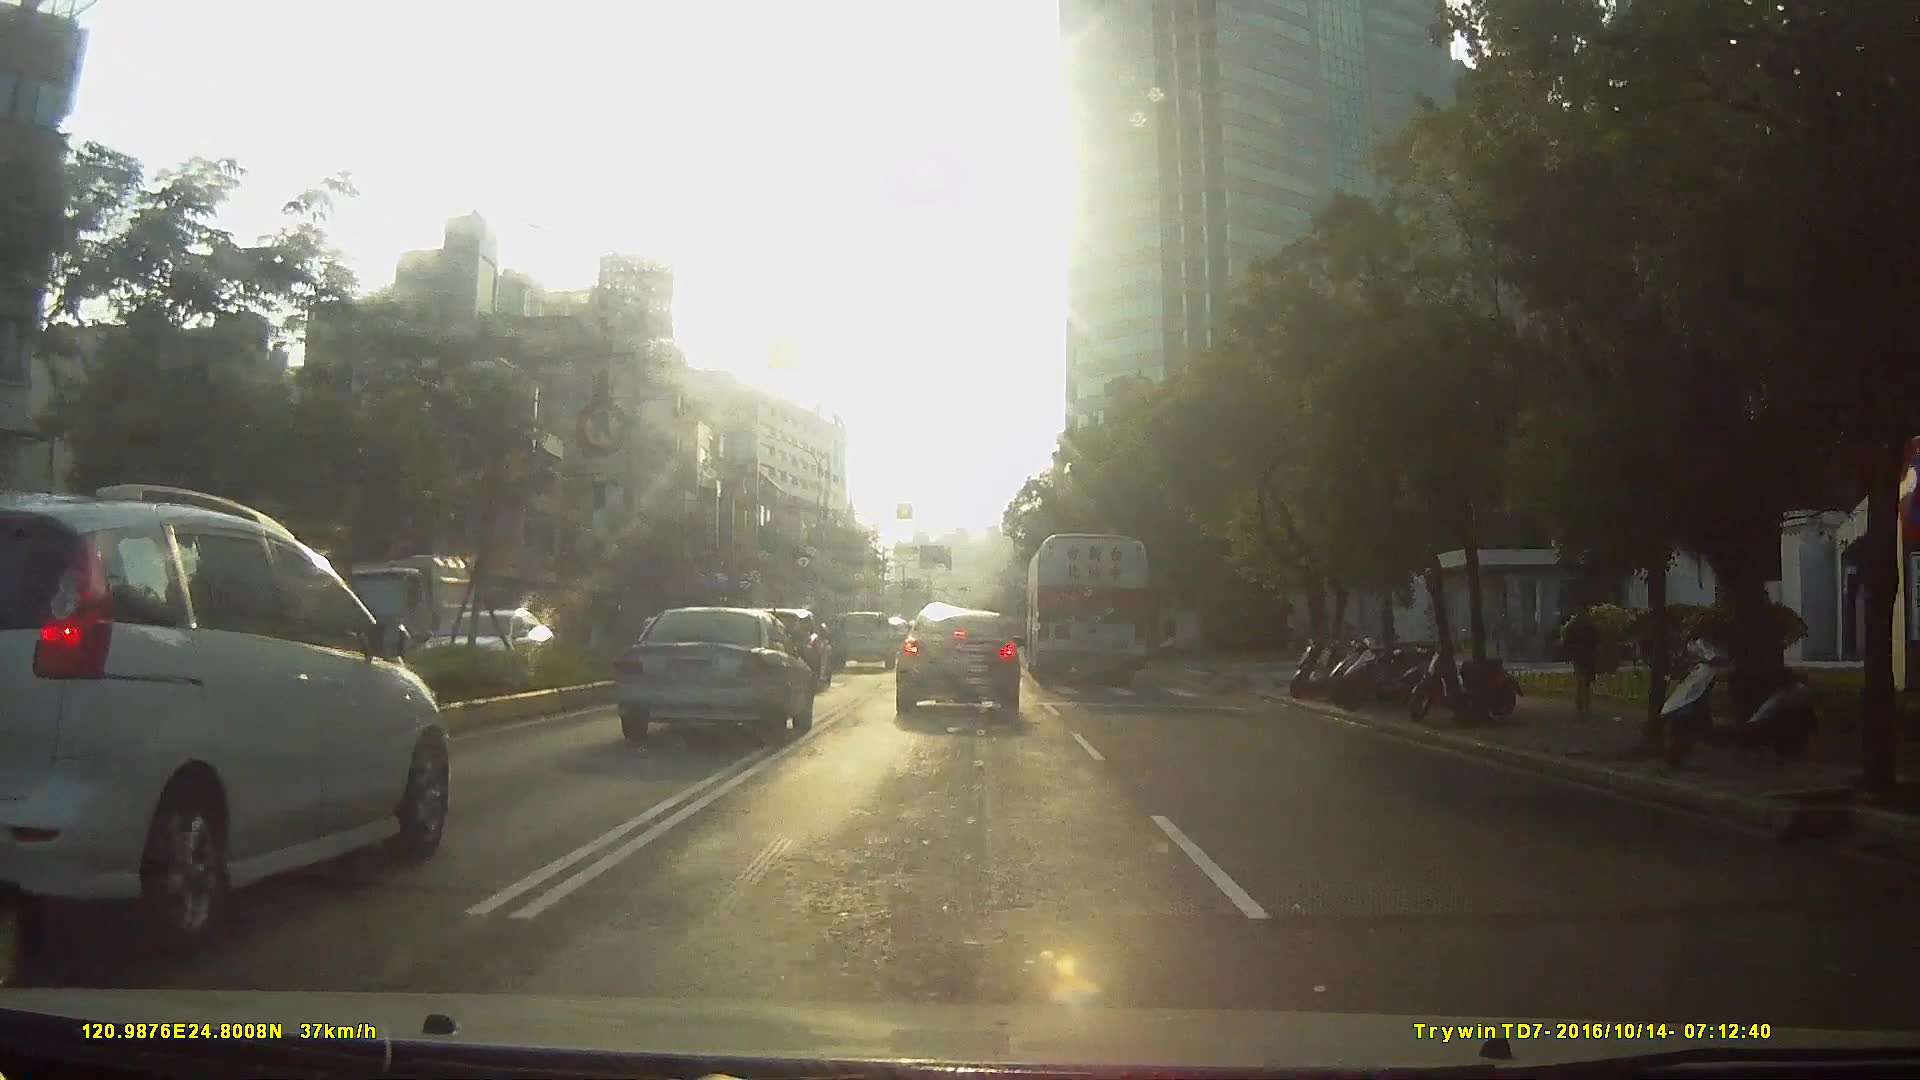pedestrian: (1562, 605, 1611, 716)
vehicle: (1, 472, 457, 965), (250, 556, 684, 868), (604, 603, 809, 746), (1022, 531, 1149, 690), (307, 550, 456, 661), (892, 600, 1022, 719), (430, 607, 559, 690), (826, 609, 894, 671)
